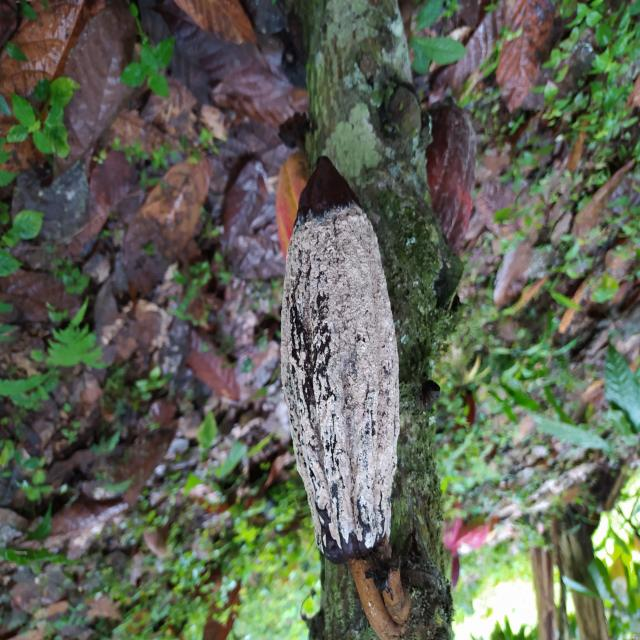Monilia: (282, 158, 402, 558)
